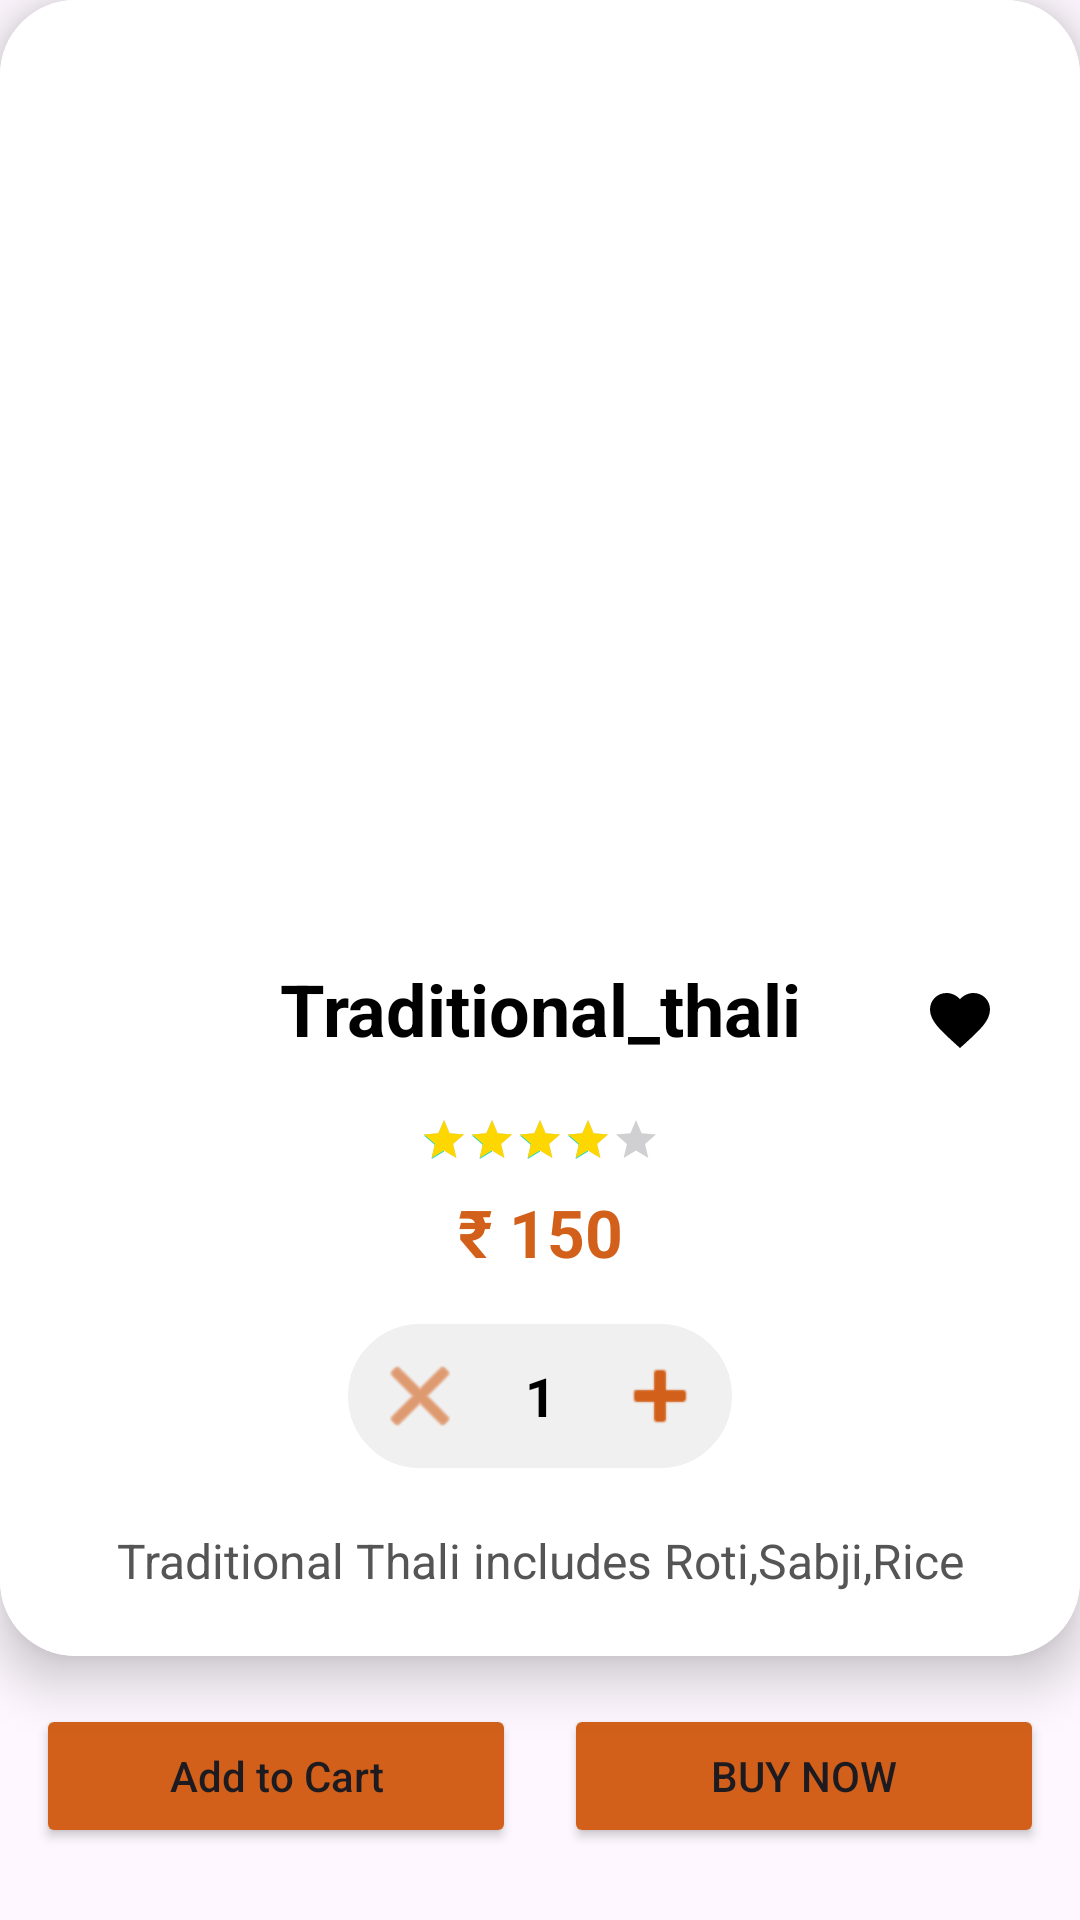

Screen size 1080 x 1920. Icon name, then its center in pixels as [x,y]:
add: [660,1396]
Add to wishlist: [960,1020]
close clear cancel: [420,1396]
